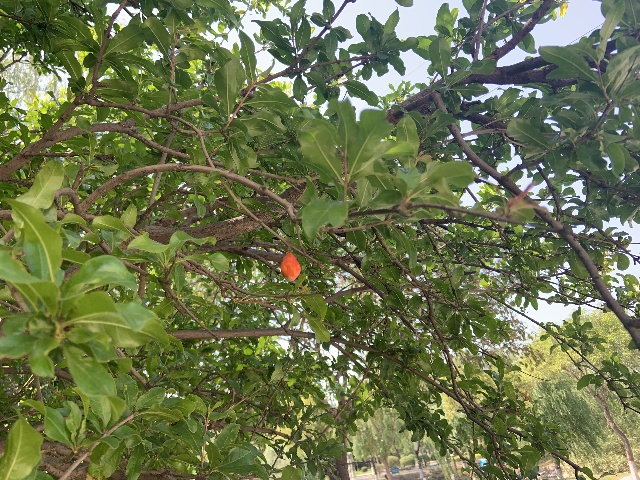bud: (280, 252, 300, 281)
